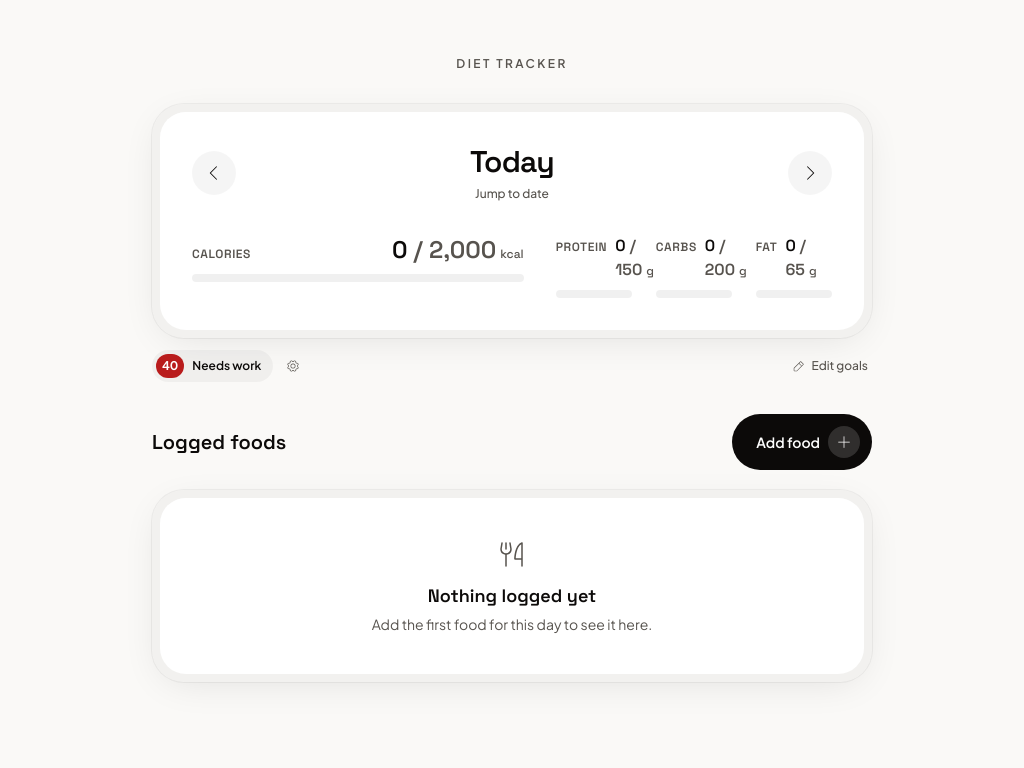
Scenario: App — health score wiring › re-fetches the health score (via refreshKey) after a successful settings save, without waiting for a date change
The image size is (1024, 768).
Click the button named "Health score settings" at (293, 366), box [279,352,307,380]
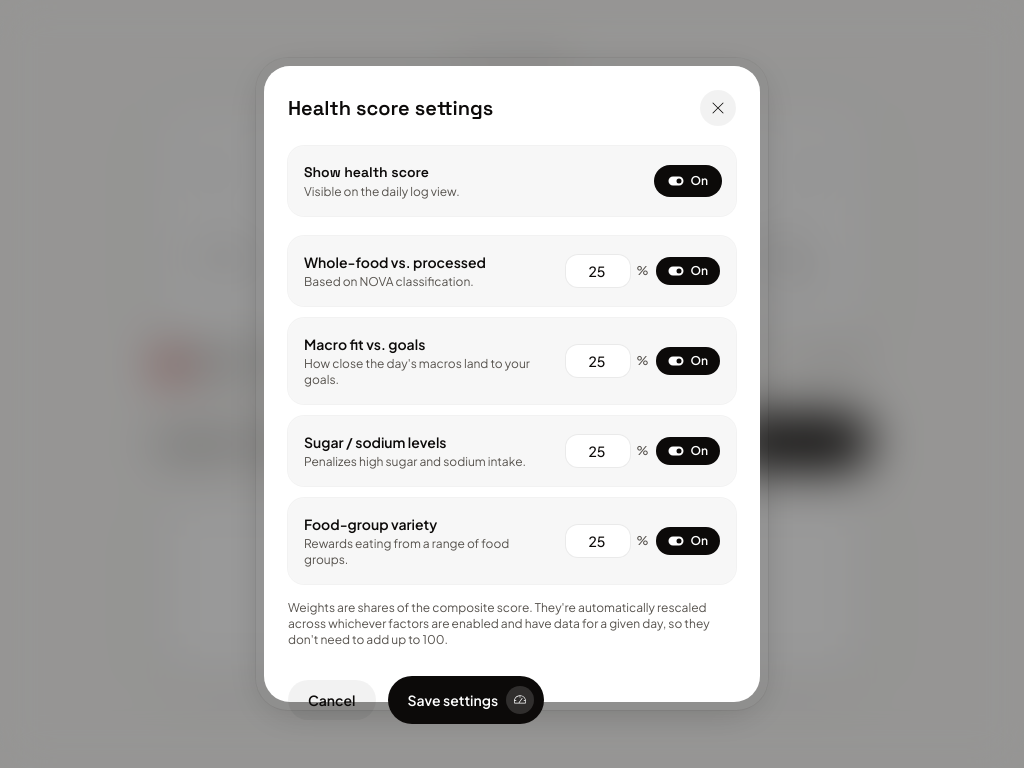
Click the button "Save settings" at (466, 700), box [388,676,544,724]
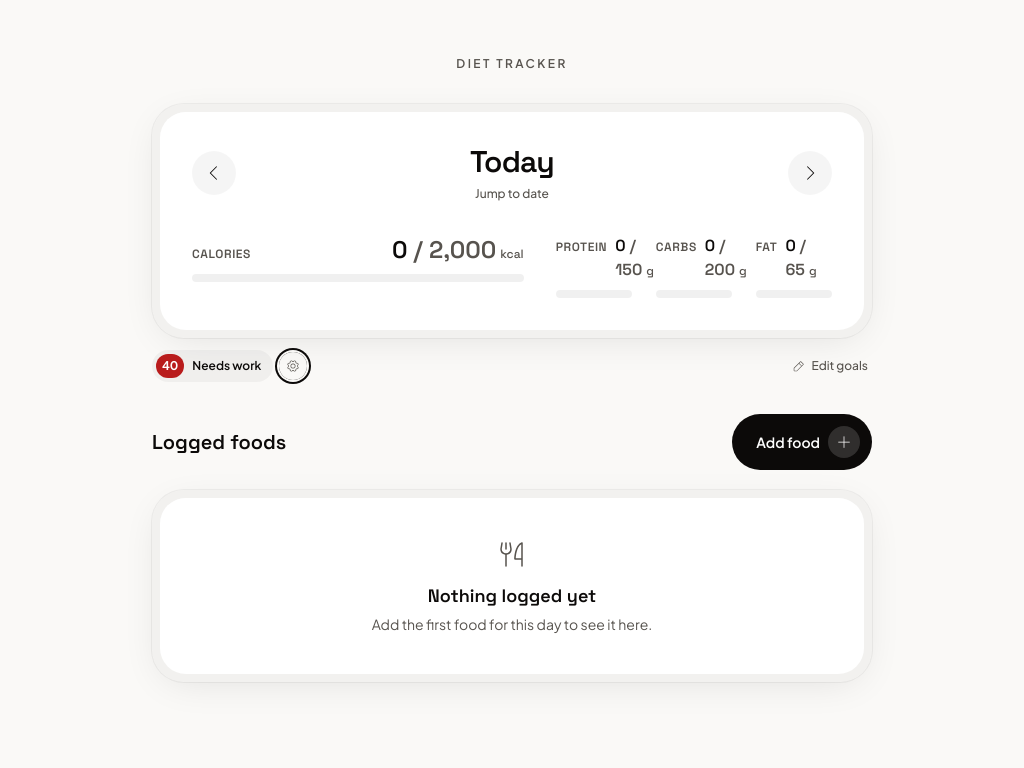
Expected: the dialog is gone
